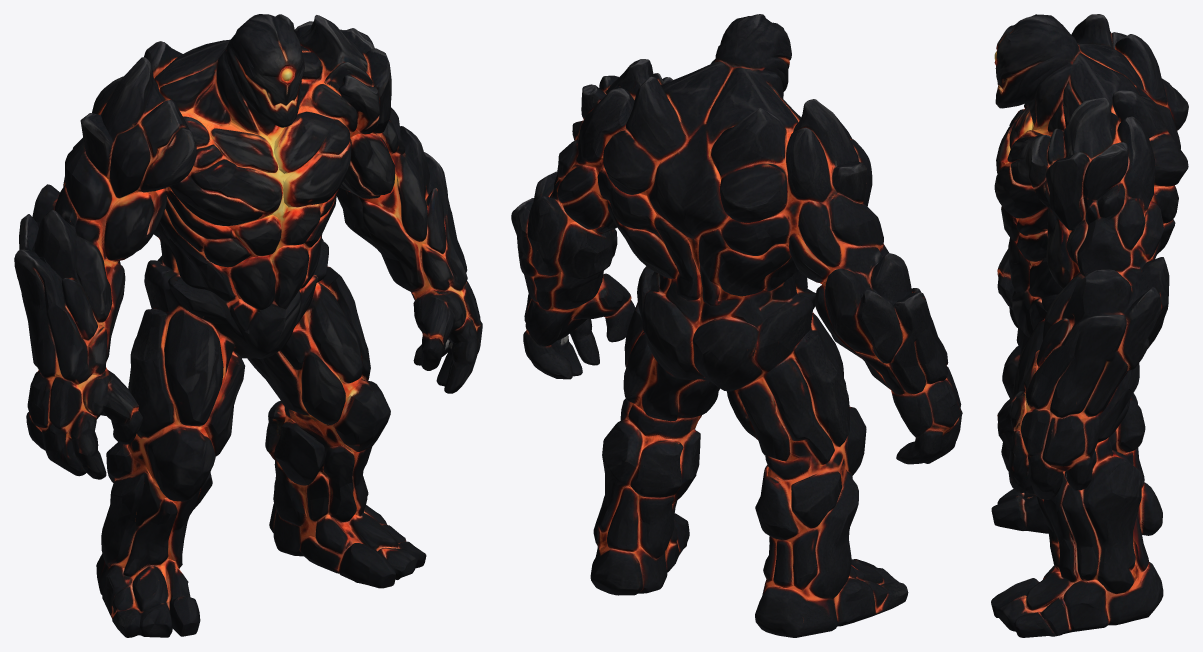
File: enemy_golem.glb
3 views of the same model, side by side, from view 1: azimuth 30°, elevation 25°; view 2: azimuth 150°, elevation 25°; view 3: azimuth 270°, elevation 25° (orthographic). The views are drawn at different scales.
Parts seen in each view (by area): view 1: Mesh_0; view 2: Mesh_0; view 3: Mesh_0.
Boxes of the visible parts, bbox=[...] form: Mesh_0: bbox=[14, 14, 482, 637]; Mesh_0: bbox=[511, 14, 962, 637]; Mesh_0: bbox=[991, 14, 1188, 637].
Size of the model in its own units: 1.52 by 1.9 by 0.6166.
Materials: 1 (1 with a texture image).
